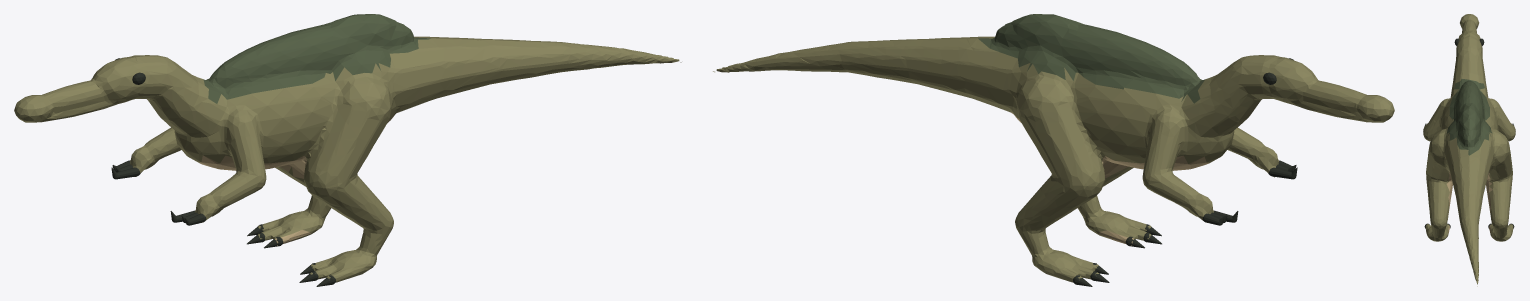
3 renders of one model, left to right at view 1: azimuth 30°, elevation 25°; view 2: azimuth 150°, elevation 25°; view 3: azimuth 270°, elevation 25°, orthographic. The views are drawn at different scales.
Parts seen in each view (by area): view 1: Suchomimus continuous skin; view 2: Suchomimus continuous skin; view 3: Suchomimus continuous skin.
Boxes of the visible parts, bbox=[...] form: Suchomimus continuous skin: bbox=[14, 14, 681, 286]; Suchomimus continuous skin: bbox=[713, 14, 1394, 286]; Suchomimus continuous skin: bbox=[1423, 14, 1515, 286].
Size of the model in its own units: 10.77 by 3.71 by 2.13.
